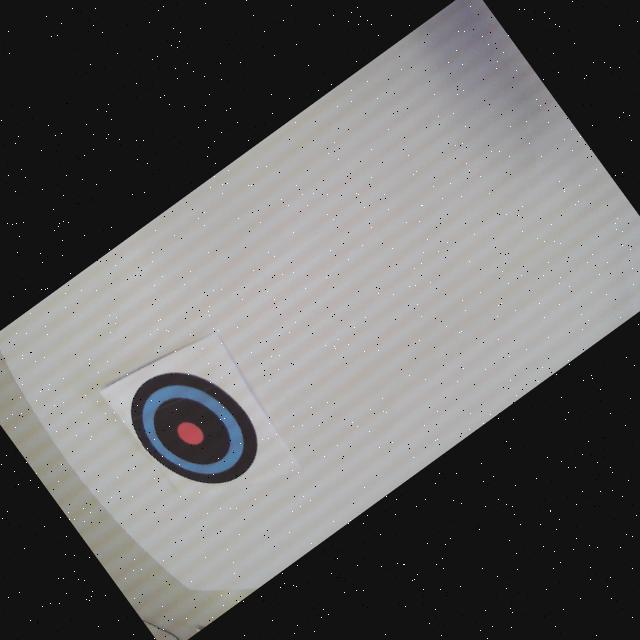COGNITIVE: (113, 343, 275, 512)
